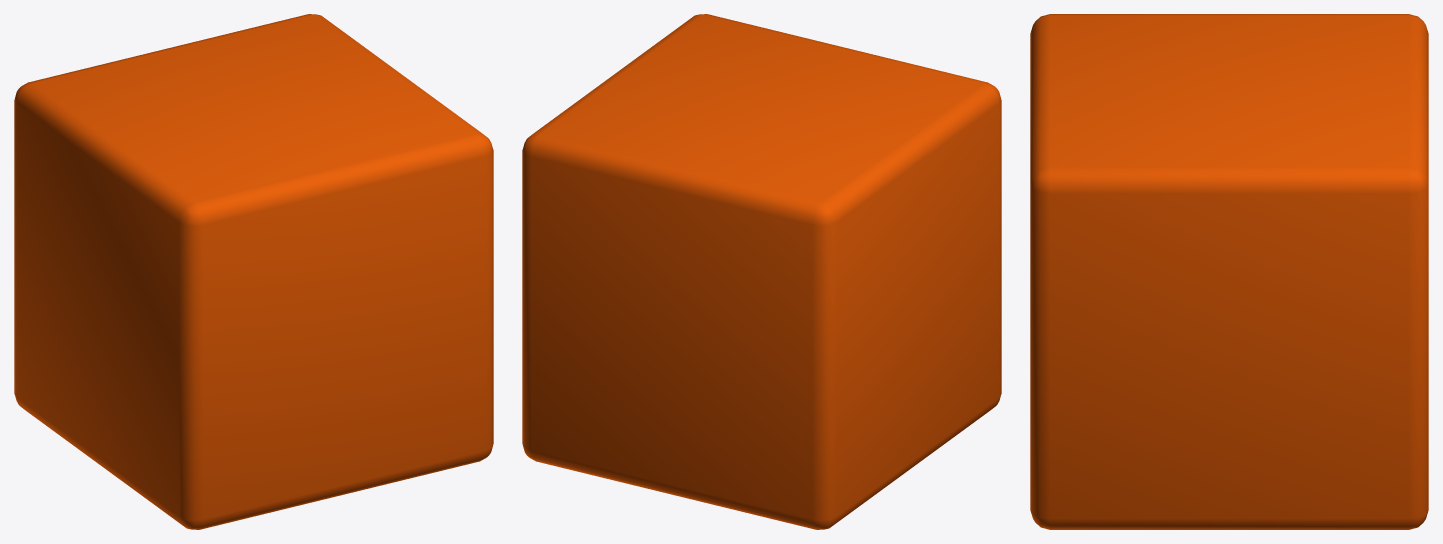
Rendered from animationtest.glb.
3 views of the same model, side by side, from view 1: azimuth 30°, elevation 25°; view 2: azimuth 150°, elevation 25°; view 3: azimuth 270°, elevation 25° (orthographic). The views are drawn at different scales.
Parts seen in each view (by area): view 1: Cube; view 2: Cube; view 3: Cube.
Boxes of the visible parts, x1,y1,x2,y2 form: Cube: [14, 14, 493, 529]; Cube: [522, 14, 1001, 529]; Cube: [1030, 14, 1428, 529].
Size of the model in its own units: 1.36 by 1.36 by 1.36.
